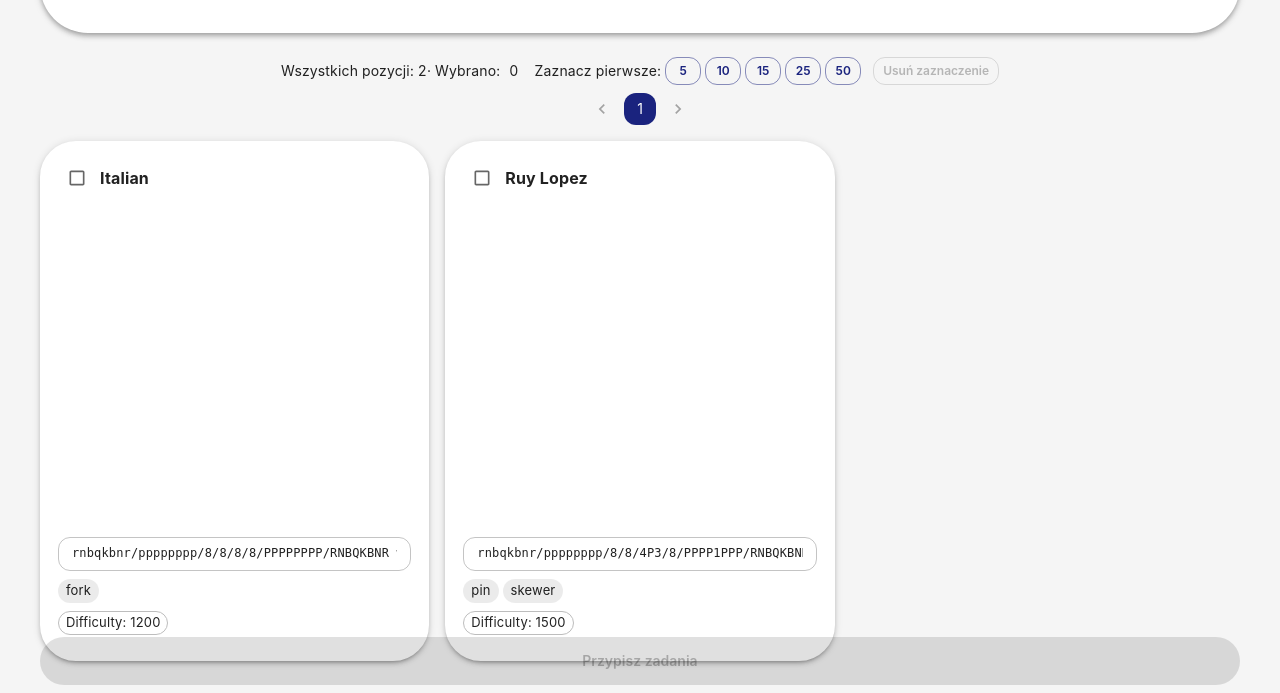
Test: PositionsView feature › renders groups inside assign modal after fetch
(page scrolled)
Expected: the text "Italian" is shown, [100,168,149,188]
Click the text "Italian" at (235, 401), box [40,141,429,661]
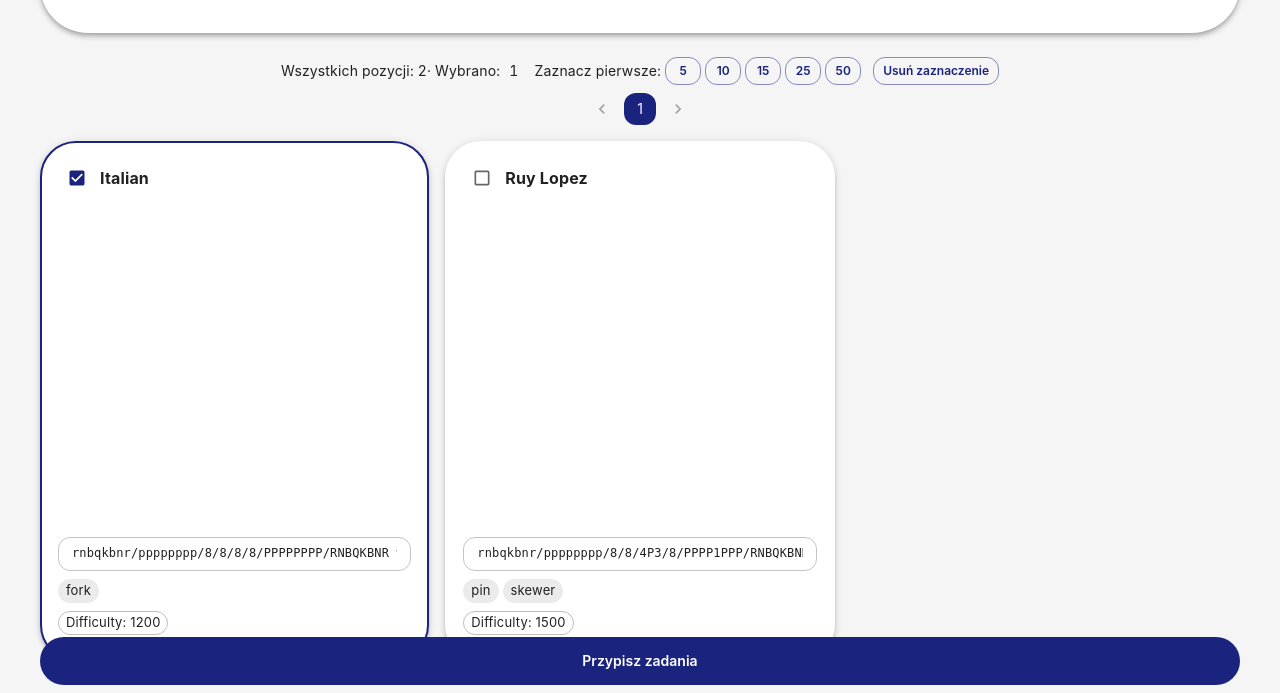
Expected: the text "Wszystkich pozycji: 2· Wybrano: 1" is shown, [281,61,518,81]
Click the button "Przypisz zadania" at (640, 661), box [40,636,1240,685]
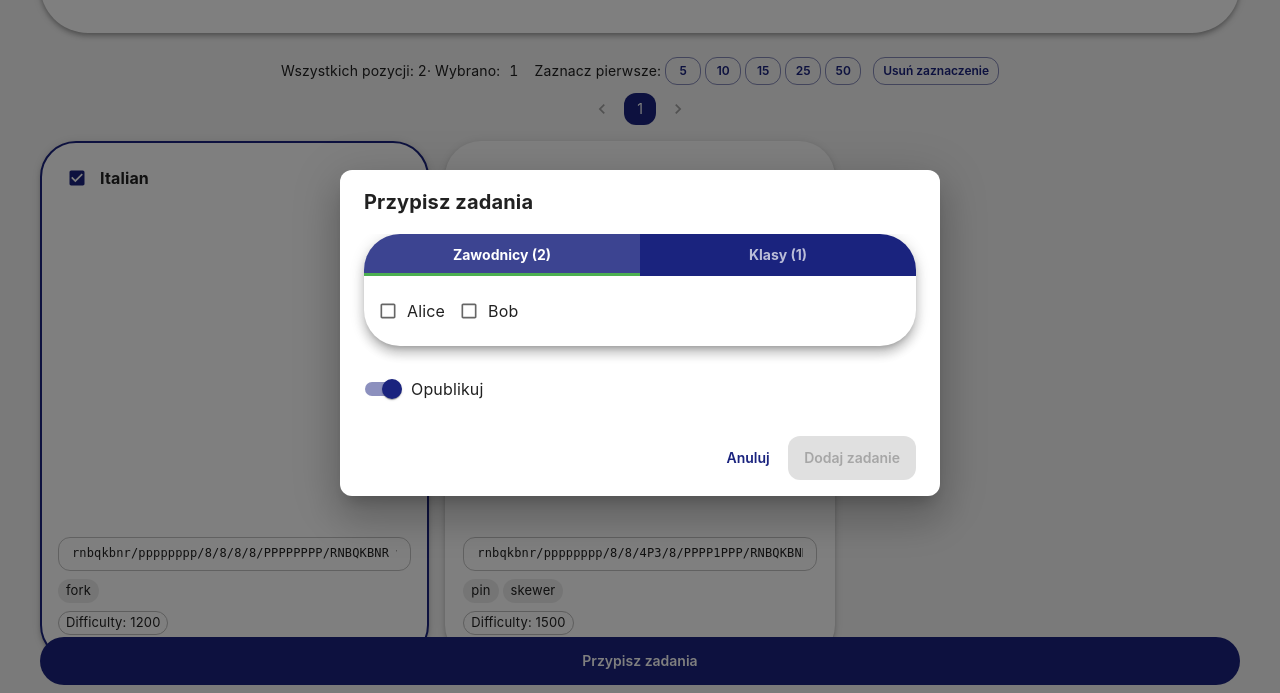
Expected: the dialog is shown, [340,170,940,496]
Expected: the text "Alice" is shown, [407,298,445,322]
Click the tab "Klasy (1)" at (778, 255), box [640,234,916,276]
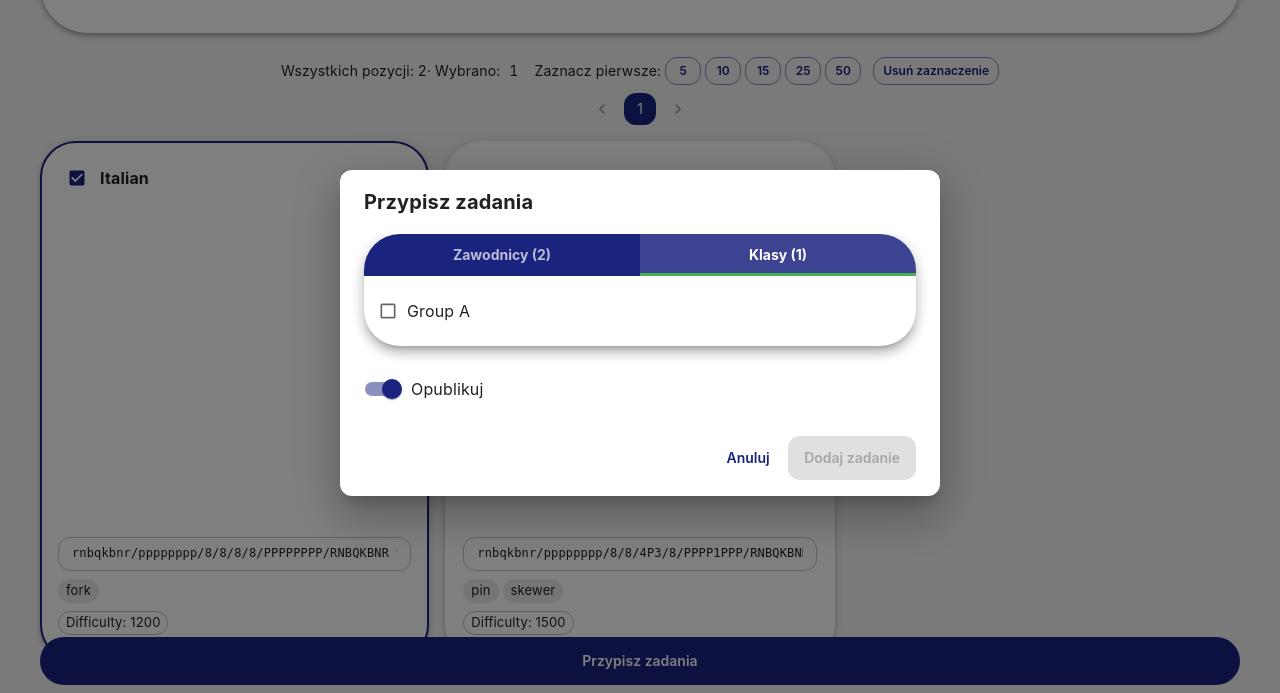
Expected: the text "Group A" is shown, [407,298,470,322]
